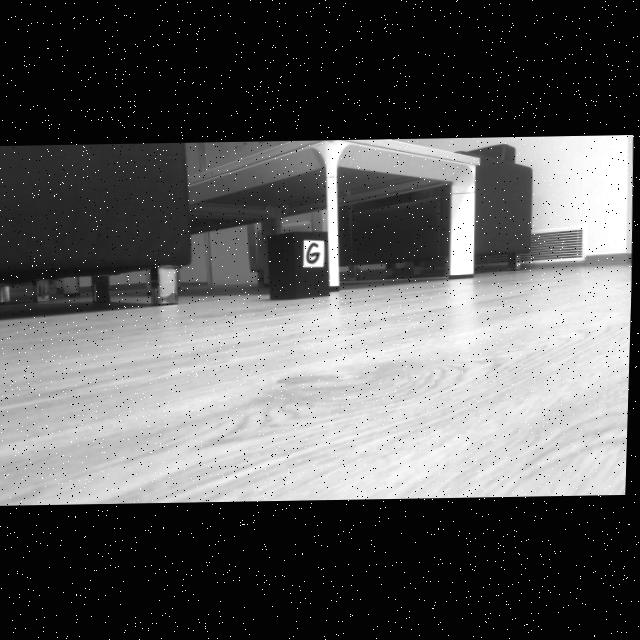G: (308, 242, 322, 263)
